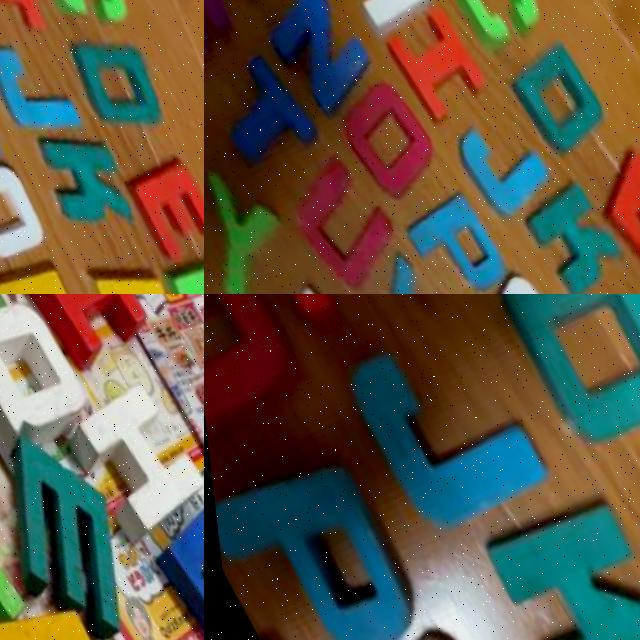B: (143, 494, 204, 640)
C: (431, 0, 547, 56), (19, 0, 130, 51)
D: (483, 294, 640, 467), (492, 39, 605, 155), (59, 38, 165, 153)
E: (101, 149, 204, 266), (577, 147, 640, 287)
F: (147, 247, 204, 294)
H: (57, 384, 204, 547), (313, 0, 437, 44)
I: (377, 6, 492, 131), (12, 294, 153, 371), (0, 0, 52, 61)
J: (322, 315, 553, 553), (439, 113, 552, 225), (0, 27, 82, 152)
K: (459, 490, 640, 640), (15, 128, 136, 256), (513, 184, 624, 294)
L: (61, 250, 169, 294)
M: (0, 434, 159, 640)
N: (247, 0, 380, 121)
O: (325, 82, 446, 212)
P: (204, 438, 426, 640), (384, 193, 505, 294)
Q: (0, 294, 96, 457), (0, 160, 38, 272)
R: (0, 254, 82, 294)
T: (204, 49, 317, 176)
U: (262, 146, 402, 294)
V: (335, 247, 462, 294)
Y: (204, 159, 300, 294)
